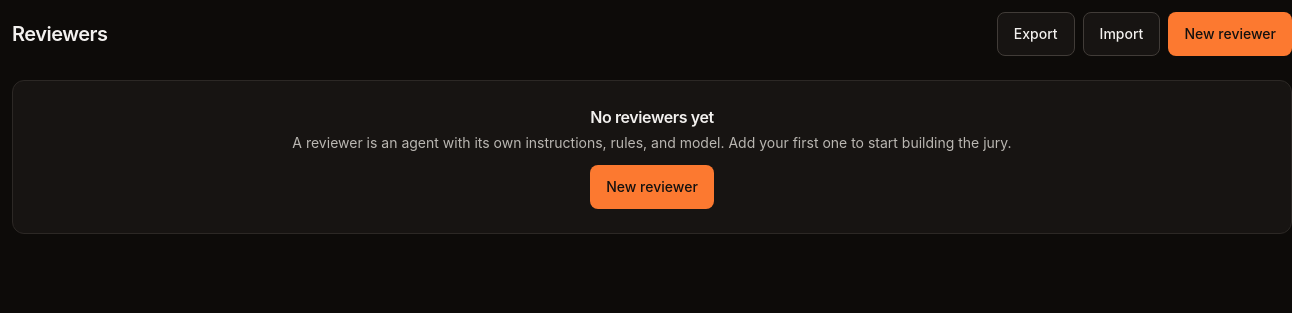
error taxonomy on a screen › renders the screen fallback and hides an unknown code
Expected: the heading "No reviewers yet" is shown, [590, 107, 714, 127]
Click the button "Export".
click(1036, 34)  # box [997, 12, 1075, 56]
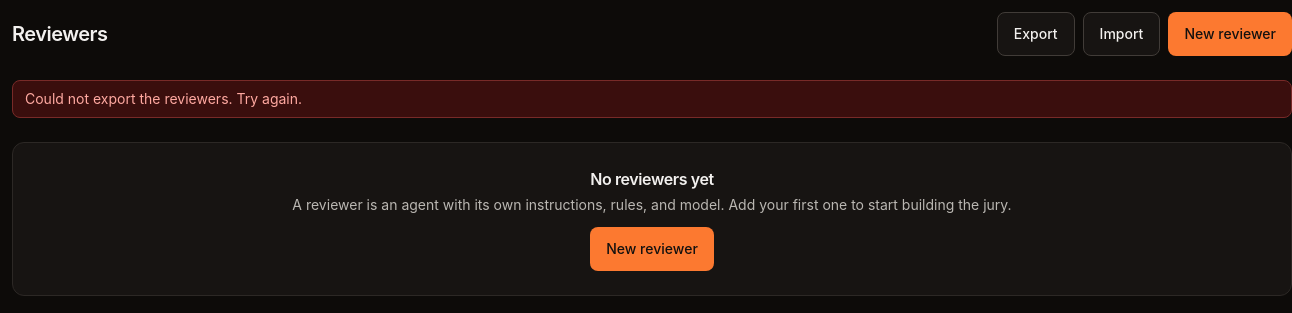
Expected: the text "Could not export the reviewers. Try again." is shown, [12, 80, 1291, 118]
